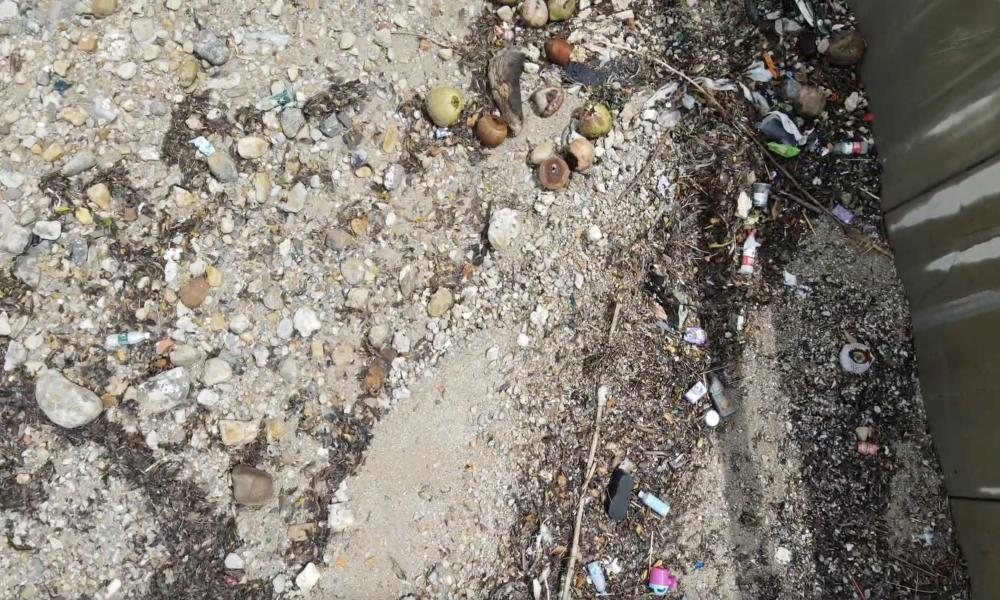plastic bottle: (637, 489, 668, 519), (830, 138, 874, 156), (743, 233, 759, 277), (589, 559, 606, 595)
